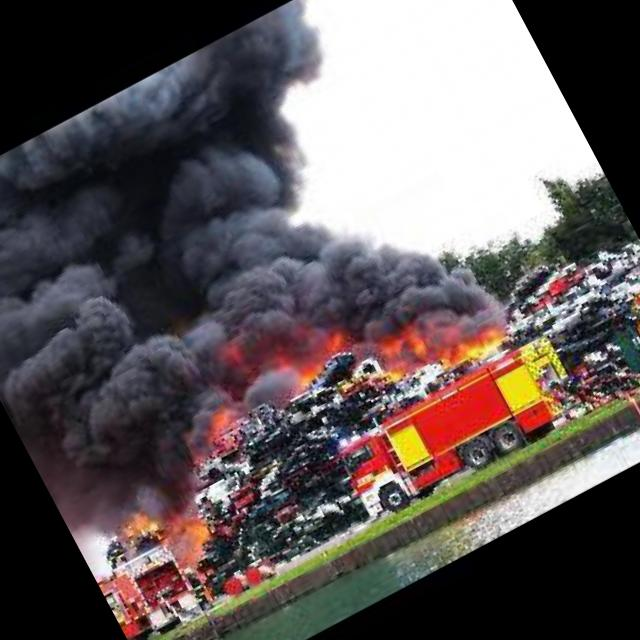fire: (362, 278, 522, 408), (114, 480, 228, 601), (266, 318, 364, 406), (170, 398, 259, 478)
smoke: (0, 0, 492, 526)
